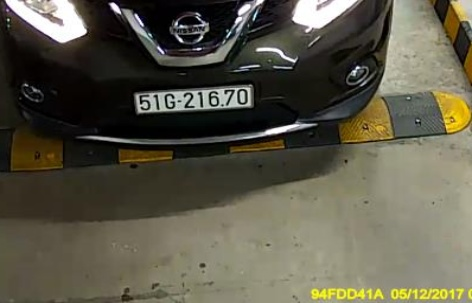plate: (131, 83, 256, 115)
